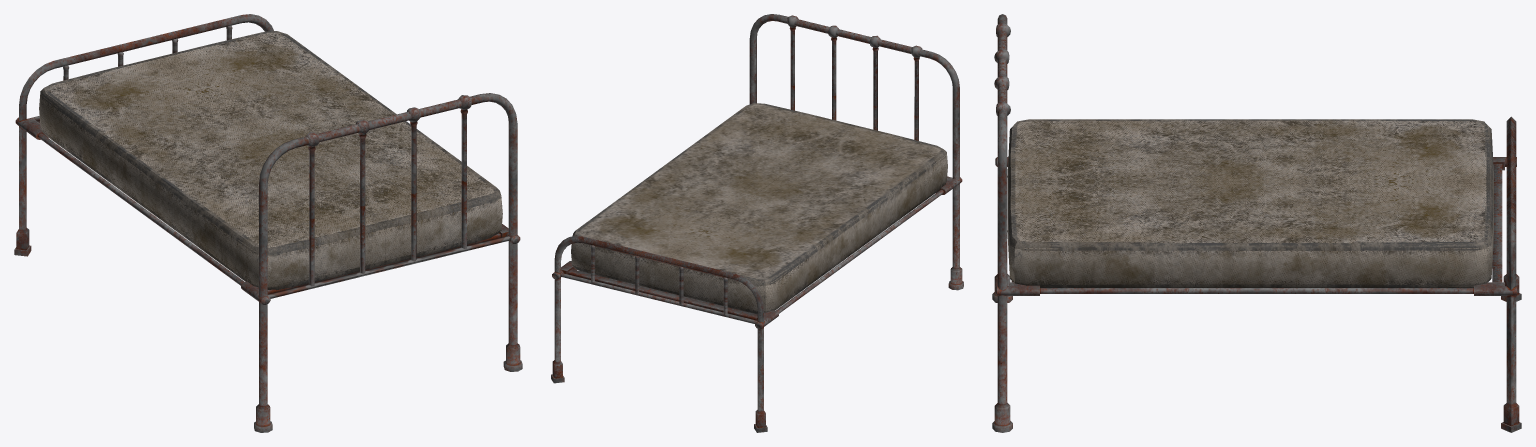
The model's file is bed.fbx.
3 renders of one model, left to right at view 1: azimuth 30°, elevation 25°; view 2: azimuth 150°, elevation 25°; view 3: azimuth 270°, elevation 25°, orthographic. The views are drawn at different scales.
Parts seen in each view (by area): view 1: Cube.001; view 2: Cube.001; view 3: Cube.001.
Boxes of the visible parts, x1,y1,x2,y2 form: Cube.001: (14, 14, 522, 432); Cube.001: (551, 14, 963, 432); Cube.001: (992, 14, 1521, 432).
Size of the model in its own units: 128 by 130 by 208.
